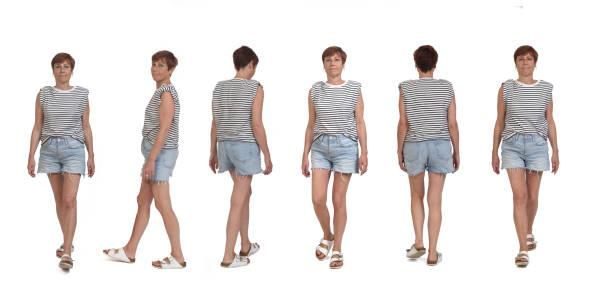Shorts: (500, 130, 554, 172), (402, 137, 456, 176), (36, 134, 86, 175), (311, 133, 360, 174), (214, 140, 265, 176), (139, 138, 179, 183)
vest: (398, 77, 457, 144), (500, 77, 554, 141), (212, 76, 262, 143), (37, 80, 90, 143), (310, 78, 362, 141), (141, 81, 180, 150)
